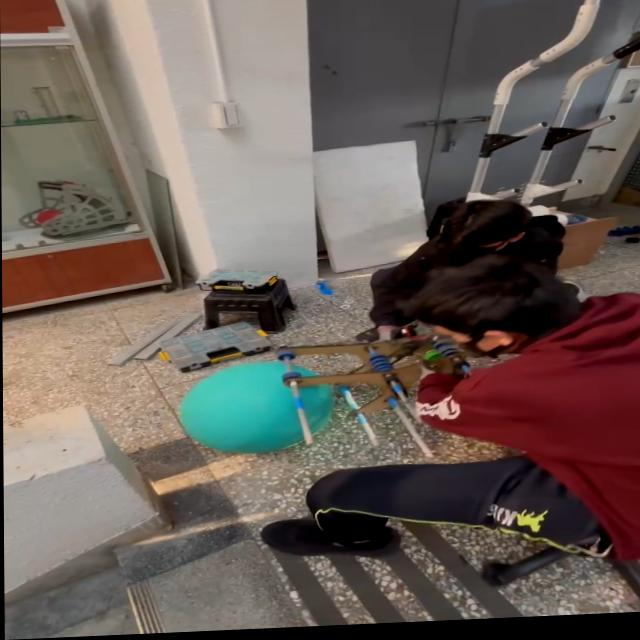ALGAE: (175, 356, 336, 457)
